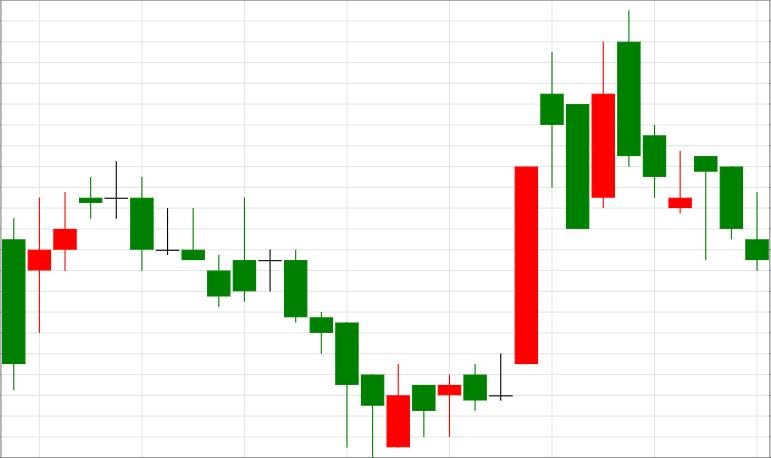hammer_rise: (259, 250, 384, 457)
